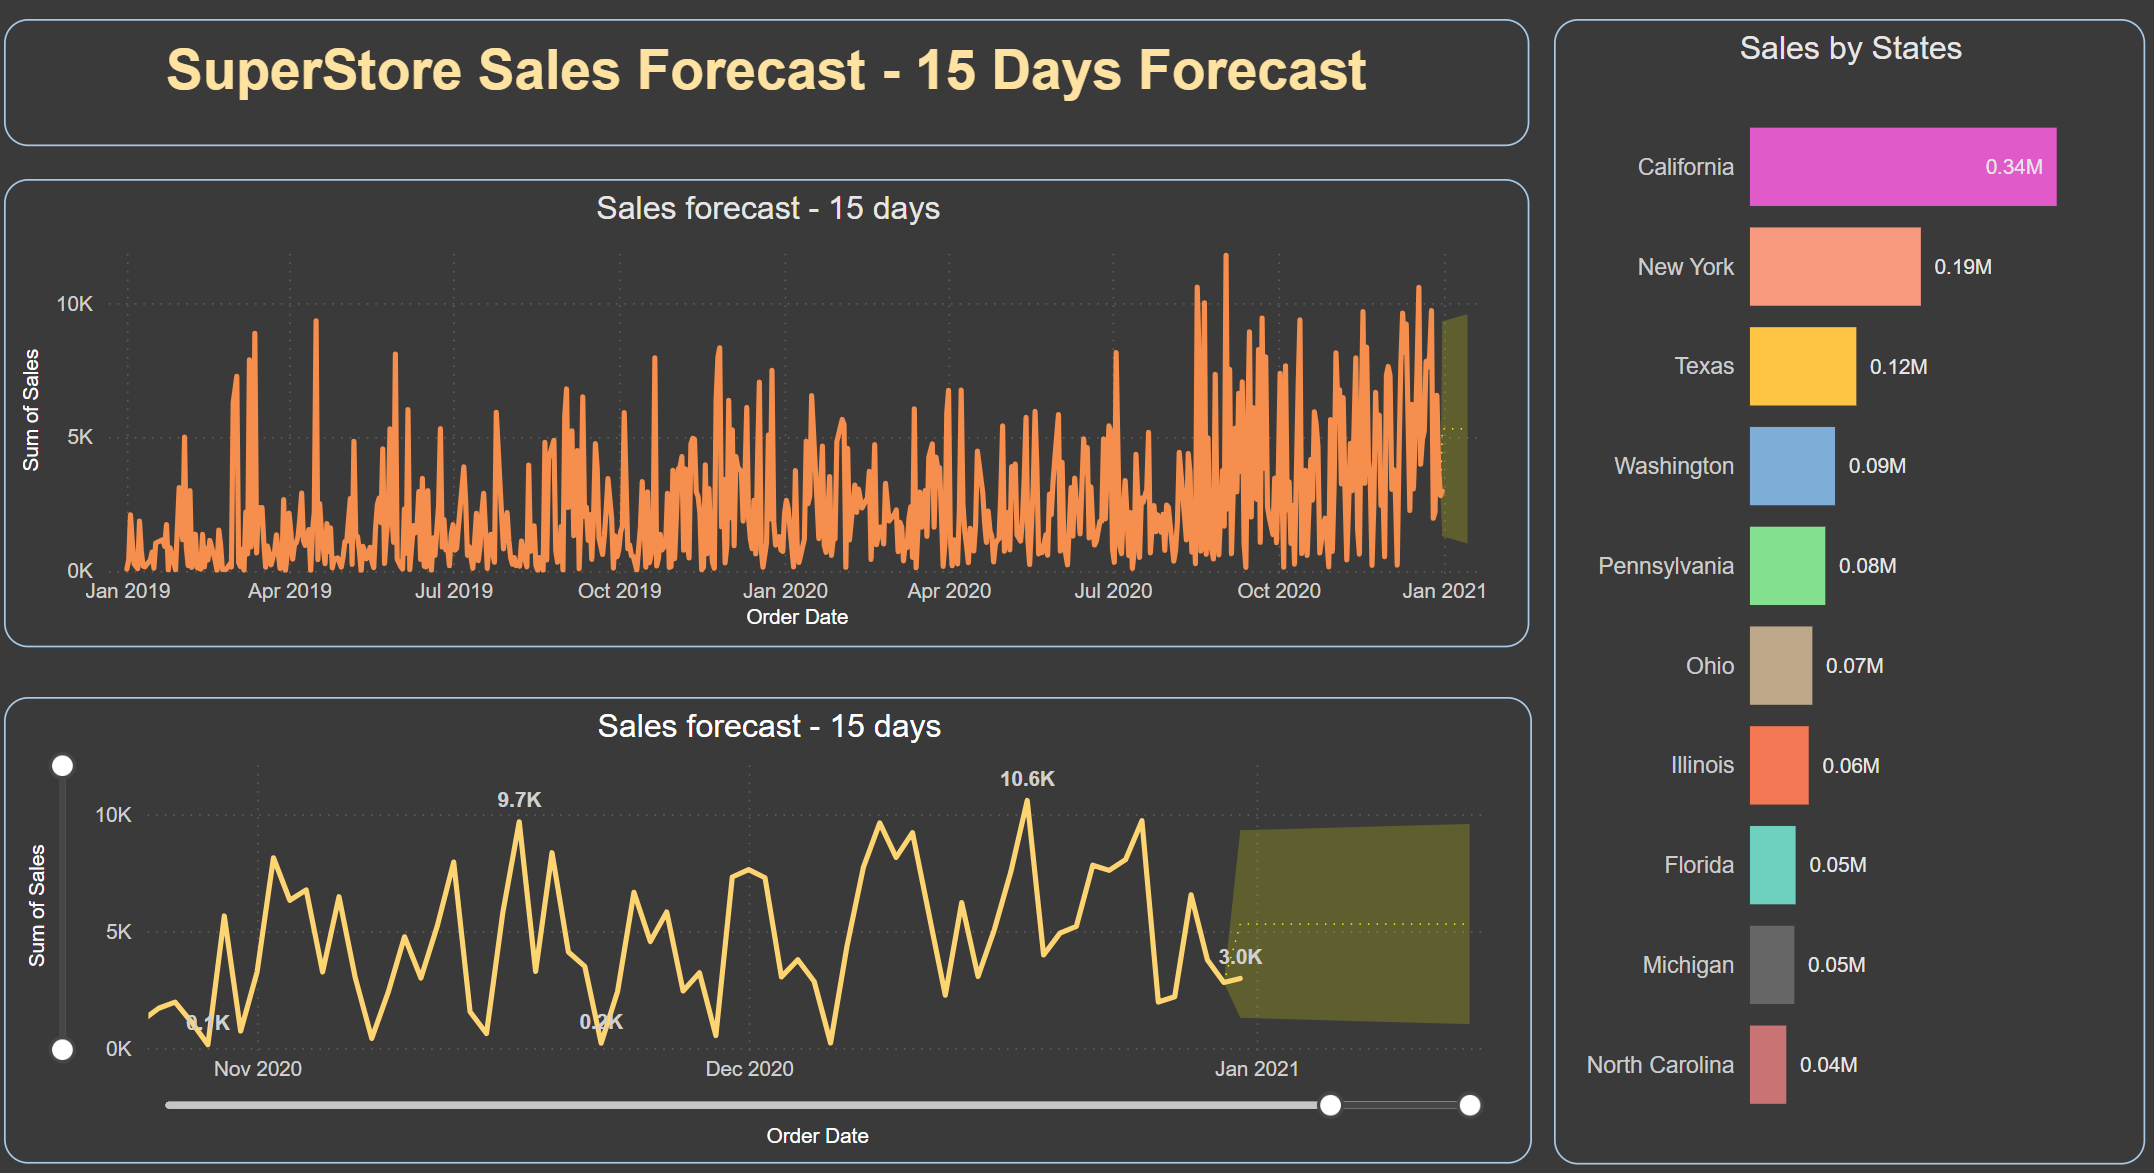

This screenshot's page, from the dashboard's own definition file:
{"tool":"powerbi","page":{"name":"Sales Forecast","canvas":[1280,720],"ordinal":1},"visuals":[{"type":"lineChart","title":"Sales forecast - 15 days","fields":{"Y":["Sum(SuperStore_Sales_Dataset.Sales)"],"Category":["SuperStore_Sales_Dataset.Order Date"]},"box":[18.8,122.5,887.5,272.5],"z":0},{"type":"lineChart","title":"Sales forecast - 15 days","fields":{"Y":["Sum(SuperStore_Sales_Dataset.Sales)"],"Category":["SuperStore_Sales_Dataset.Order Date"]},"box":[18.8,423.8,888.8,271.2],"z":1000},{"type":"textbox","box":[18.8,28.8,887.5,73.8],"z":2000},{"type":"clusteredBarChart","title":"Sales by States","fields":{"Y":["Sum(SuperStore_Sales_Dataset.Sales)"],"Category":["SuperStore_Sales_Dataset.State"]},"box":[920,28.8,343.8,666.2],"z":3000}]}

Visuals, with their boxes on the page's 1280x720 design canvas (x1, y1, x2, y2). These are canvas units, not pixel positions in the 2154x1173 screenshot, which may show the page scaled, cropped or inside an application window:
"Sales forecast - 15 days" lineChart: x1=19, y1=122, x2=906, y2=395
"Sales forecast - 15 days" lineChart: x1=19, y1=424, x2=908, y2=695
textbox: x1=19, y1=29, x2=906, y2=103
"Sales by States" clusteredBarChart: x1=920, y1=29, x2=1264, y2=695
